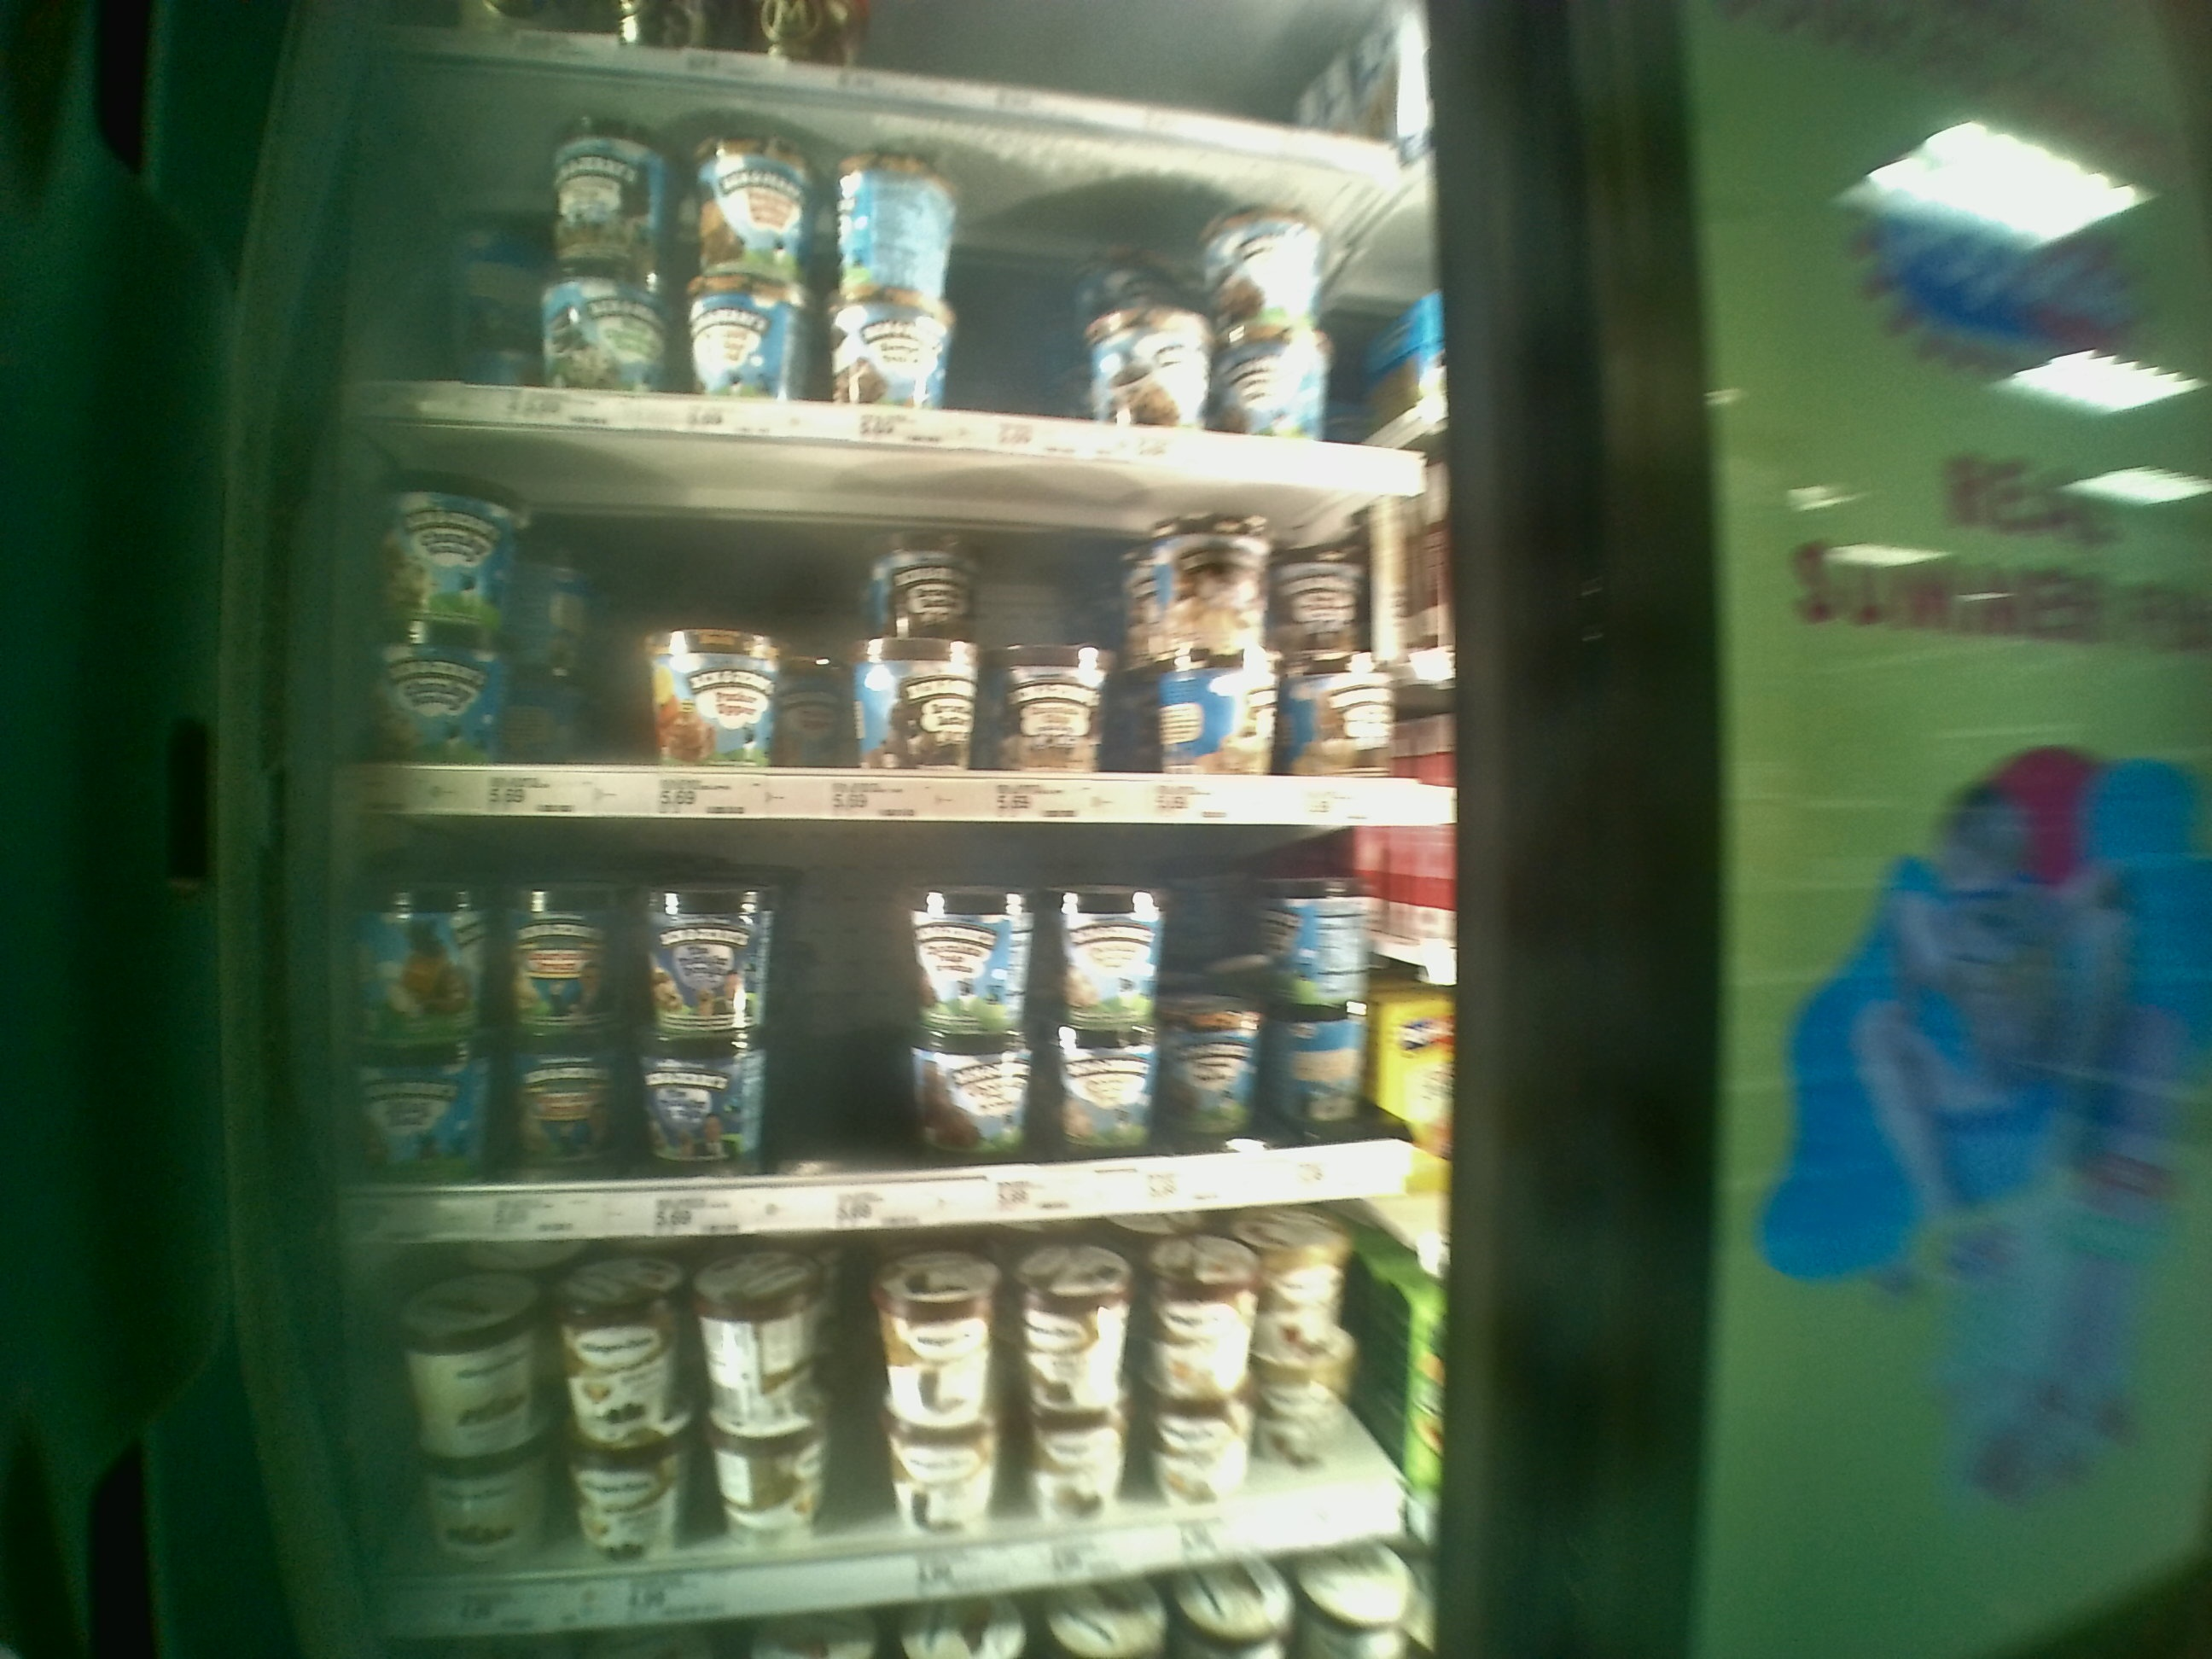ice-cream-shelf: (376, 416, 1468, 828), (374, 817, 1425, 1215)
